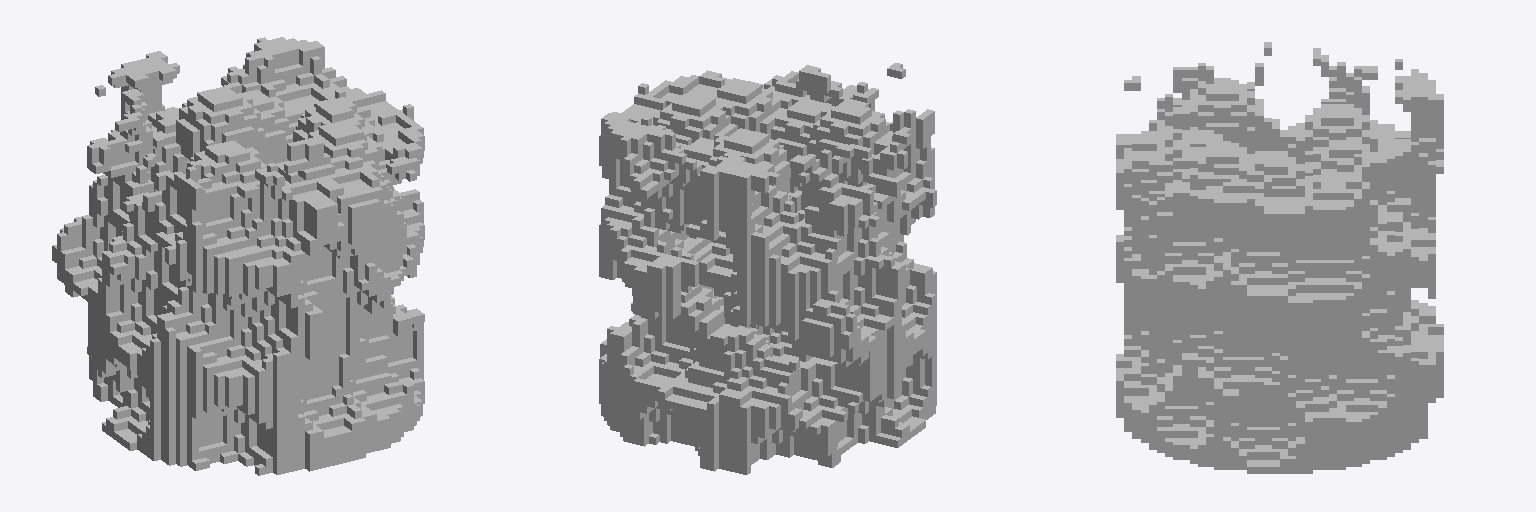
The model's file is mountain3.obj.
3 views of the same model, side by side, from view 1: azimuth 30°, elevation 25°; view 2: azimuth 150°, elevation 25°; view 3: azimuth 270°, elevation 25° (orthographic).
Visible parts, largest first — view 1: object 1; view 2: object 1; view 3: object 1.
Boxes of the visible parts, x1=… form: object 1: x1=52, y1=37, x2=424, y2=475; object 1: x1=599, y1=63, x2=936, y2=474; object 1: x1=1116, y1=42, x2=1443, y2=473.
Size of the model in its own units: 4 by 4 by 4.